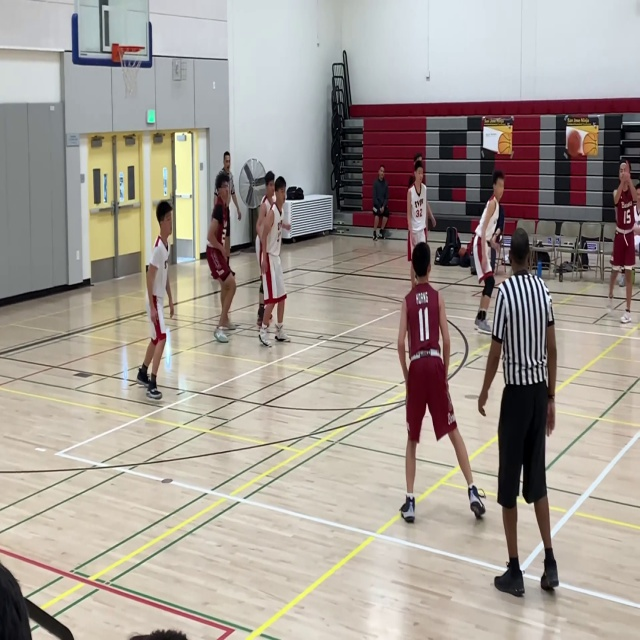Basketball: (566, 129, 585, 158)
